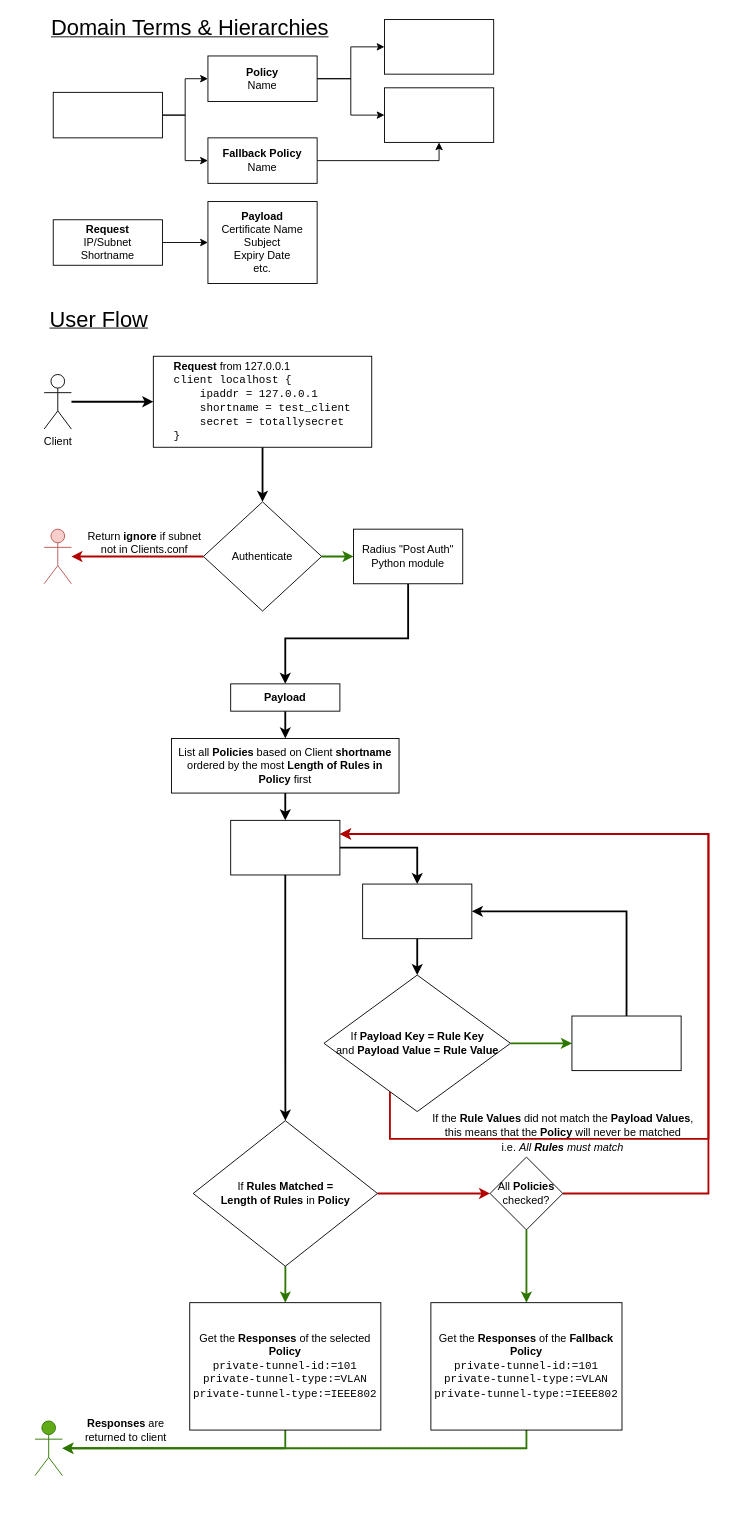
This 733x1524 diagram has some shape labels left out. The centre of each missing label's shape, as x and y in pixels:
Client is authenticated: (x=48, y=1448)
Client is unauthenticated: (x=57, y=556)
Loop through Policies: (x=285, y=847)
Loop through Rules on the Policy: (x=417, y=911)
Response Key Value: (x=439, y=114)
Rules Key Value: (x=439, y=46)
Rules Matched +1: (x=626, y=1043)
Site Tag: (x=107, y=114)
